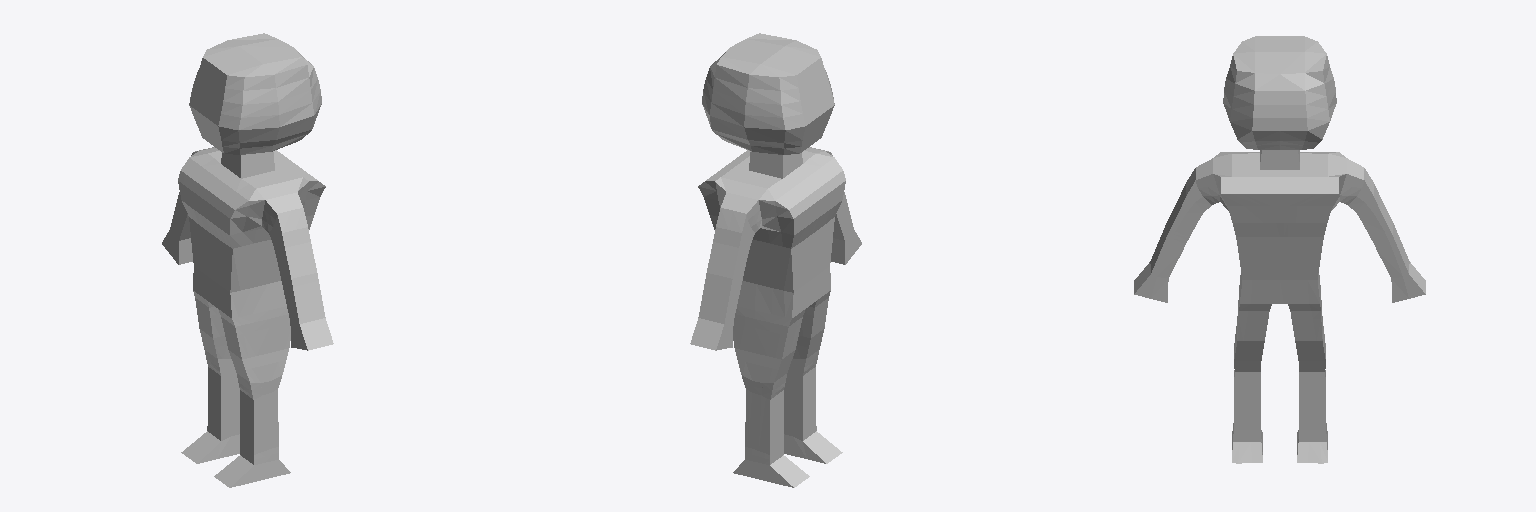
Rendered from PersonajeInicial.obj.
The picture shows the model from 3 angles: view 1: azimuth 30°, elevation 25°; view 2: azimuth 150°, elevation 25°; view 3: azimuth 270°, elevation 25°; orthographic projection.
Visible parts, largest first — view 1: PersonajePM.001; view 2: PersonajePM.001; view 3: PersonajePM.001.
Boxes of the visible parts, x1=… form: PersonajePM.001: x1=162, y1=33, x2=333, y2=487; PersonajePM.001: x1=690, y1=33, x2=861, y2=487; PersonajePM.001: x1=1134, y1=36, x2=1425, y2=463.
Size of the model in its own units: 0.4345 by 1.6 by 1.05.